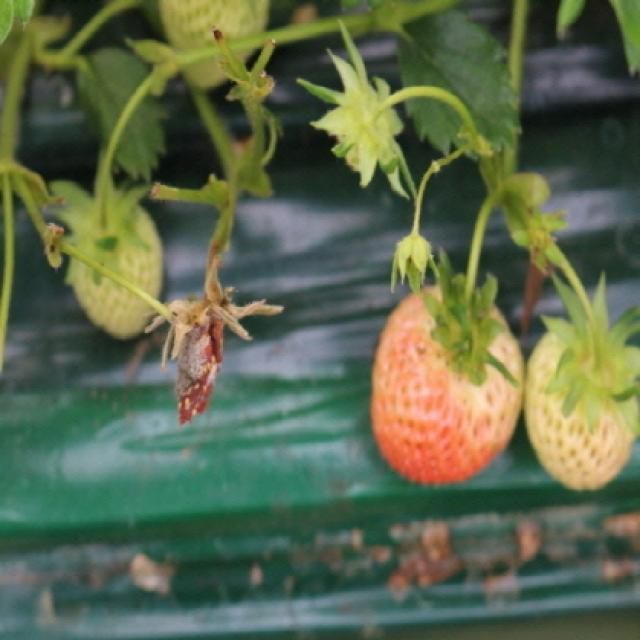Gray Mold: (146, 278, 282, 428)
